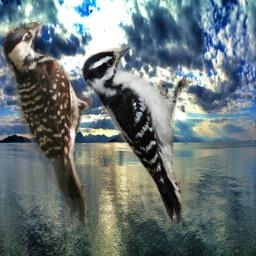Woodpecker: (2, 22, 106, 228), (81, 46, 196, 227)
